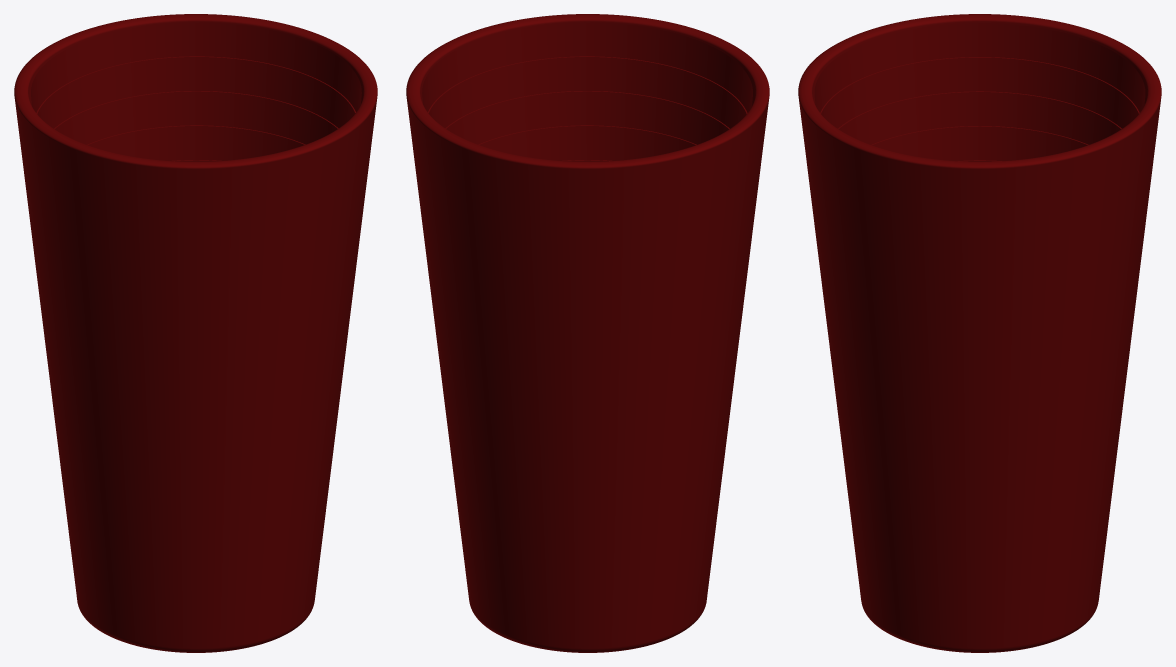
File: model17rings.glb
3 renders of one model, left to right at view 1: azimuth 30°, elevation 25°; view 2: azimuth 150°, elevation 25°; view 3: azimuth 270°, elevation 25°, orthographic.
Bounding box in the file's own units: 0.077 × 0.1208 × 0.077.
